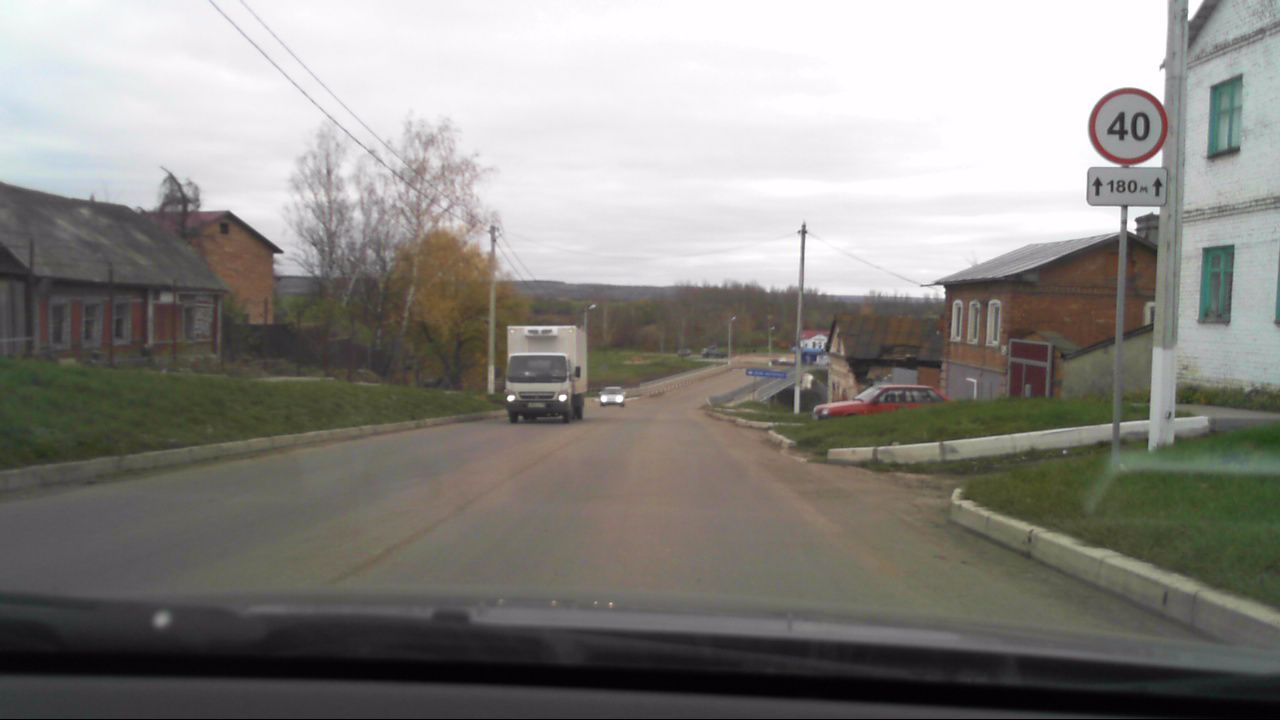speed_warning_40: (1088, 86, 1168, 166)
